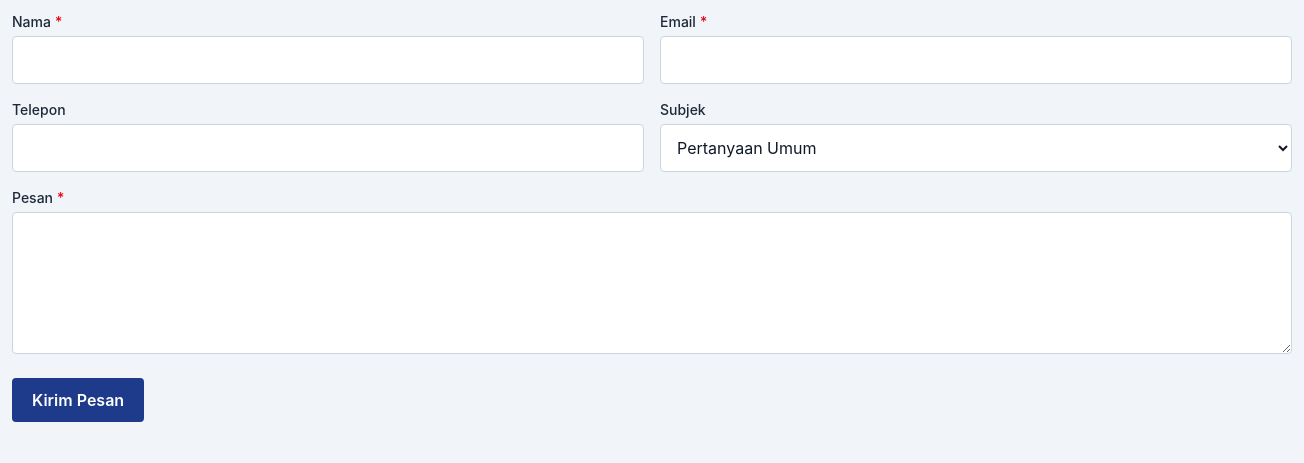
Test: ContactForm component › shows validation errors for invalid form
The width and height of the screenshot is (1304, 463).
In the field labelled "Nama*": (328, 60) [12,36,644,84], type "Dozer"
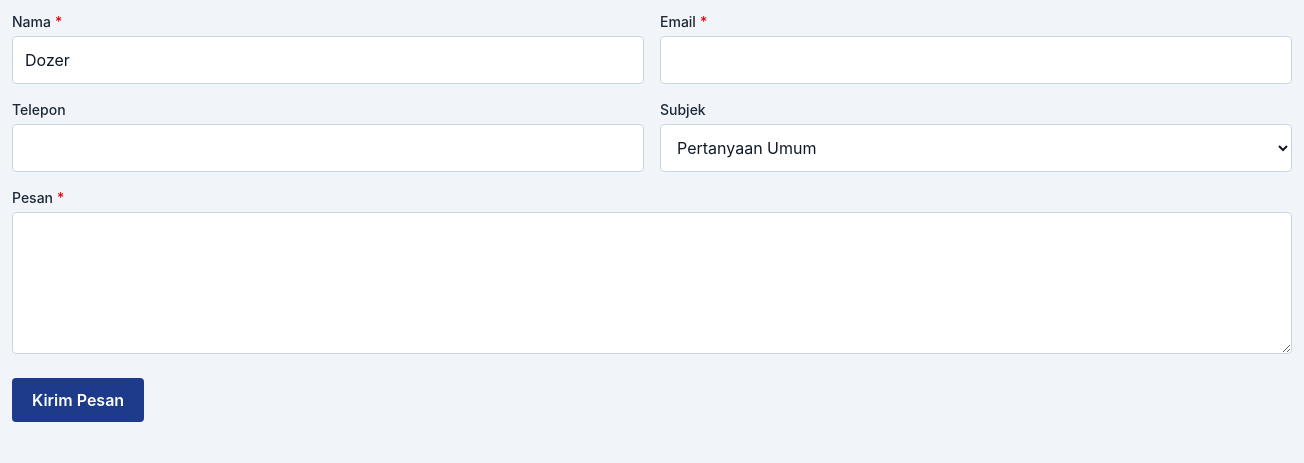
In the field labelled "Email*": (976, 60) [660,36,1292,84], type "dozer@example.com"
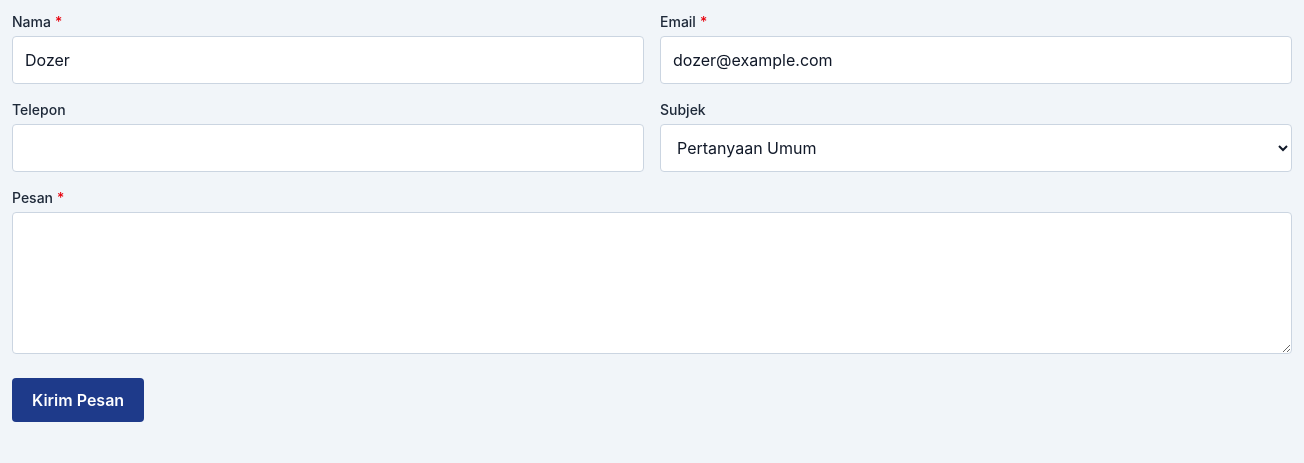
In the text box labelled "Pesan*": (652, 283) [12,212,1292,354], type "short"
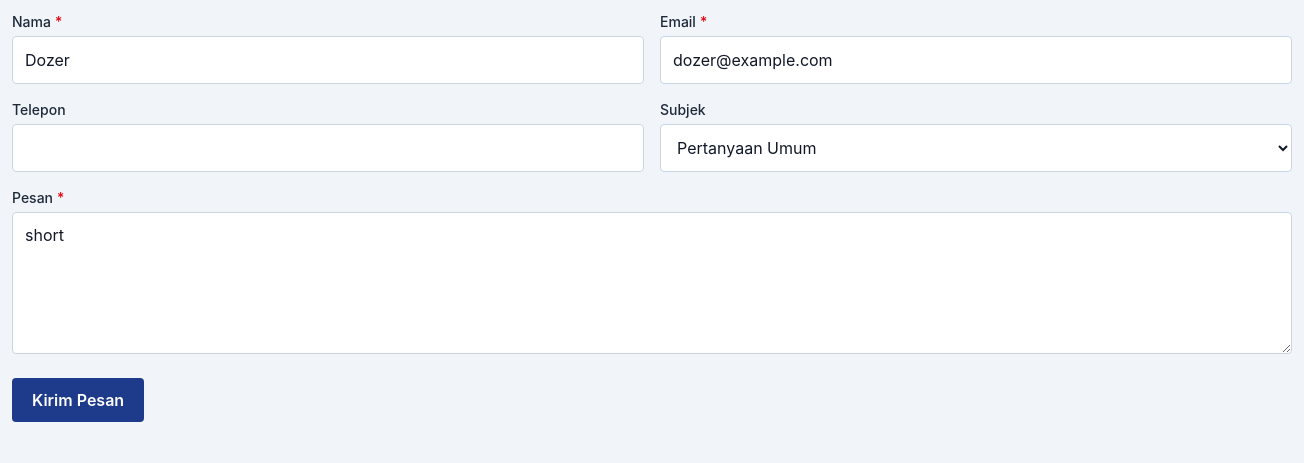
Click the button "Kirim Pesan": (78, 400) [12,378,144,422]
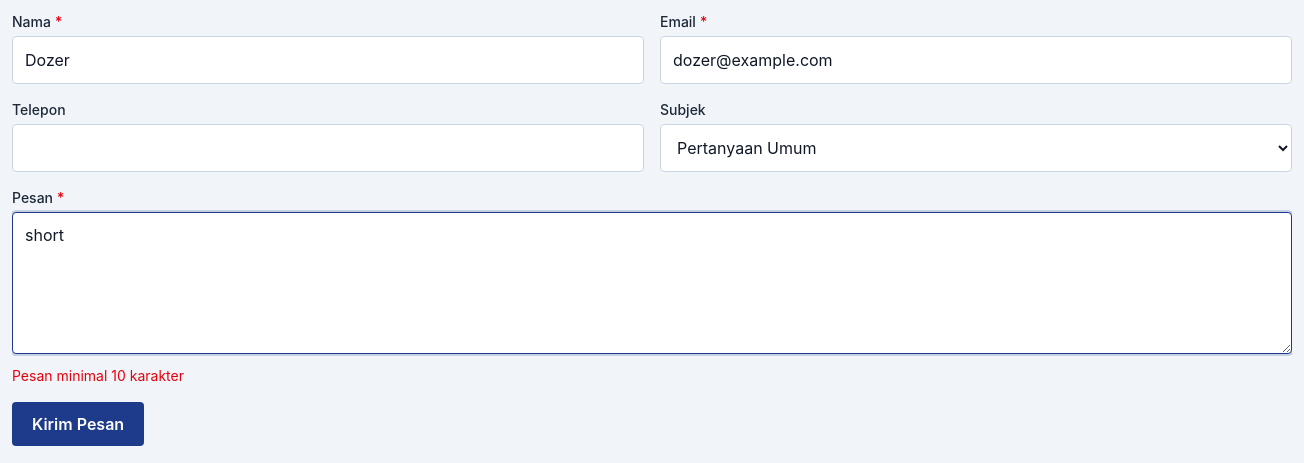
expect the text "Pesan minimal 10 karakter" is shown: met, box [12,367,184,384]
